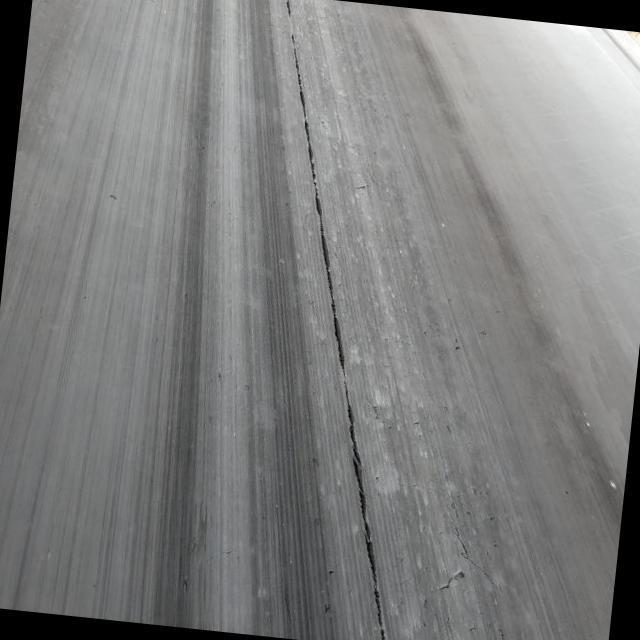Tear: (283, 0, 393, 640)
